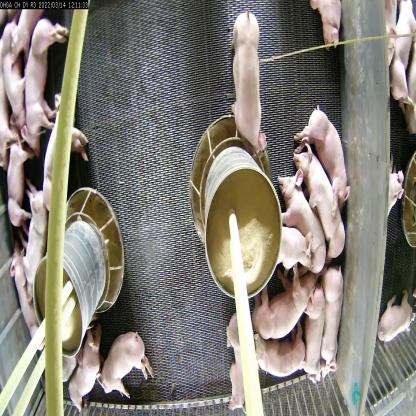Pig: (228, 4, 274, 150), (36, 93, 93, 206), (23, 24, 73, 146), (290, 143, 344, 248), (9, 241, 55, 353), (255, 261, 317, 342), (298, 102, 352, 186), (281, 167, 326, 262), (20, 178, 58, 286), (101, 330, 153, 402), (2, 22, 32, 138), (224, 313, 258, 415), (2, 134, 39, 224), (324, 267, 350, 384), (63, 329, 100, 403), (302, 284, 328, 382), (254, 339, 311, 377), (276, 226, 312, 261)
